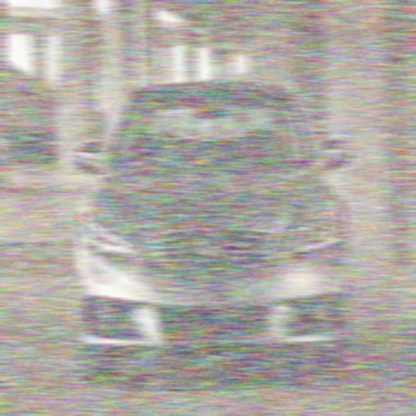Vehicle: (74, 86, 359, 391)
